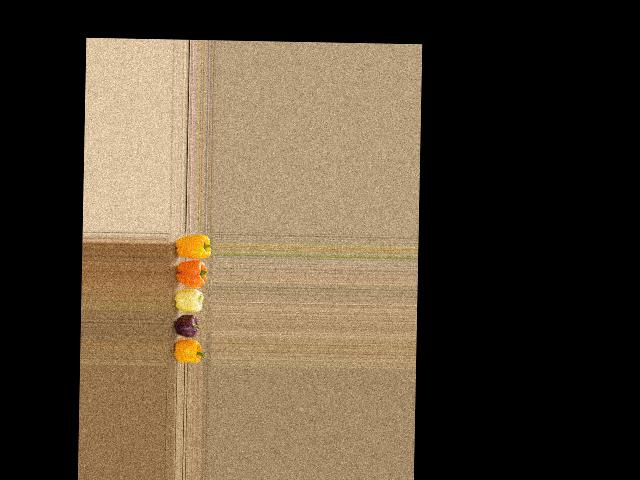bell_pepper: (168, 341, 207, 365)
